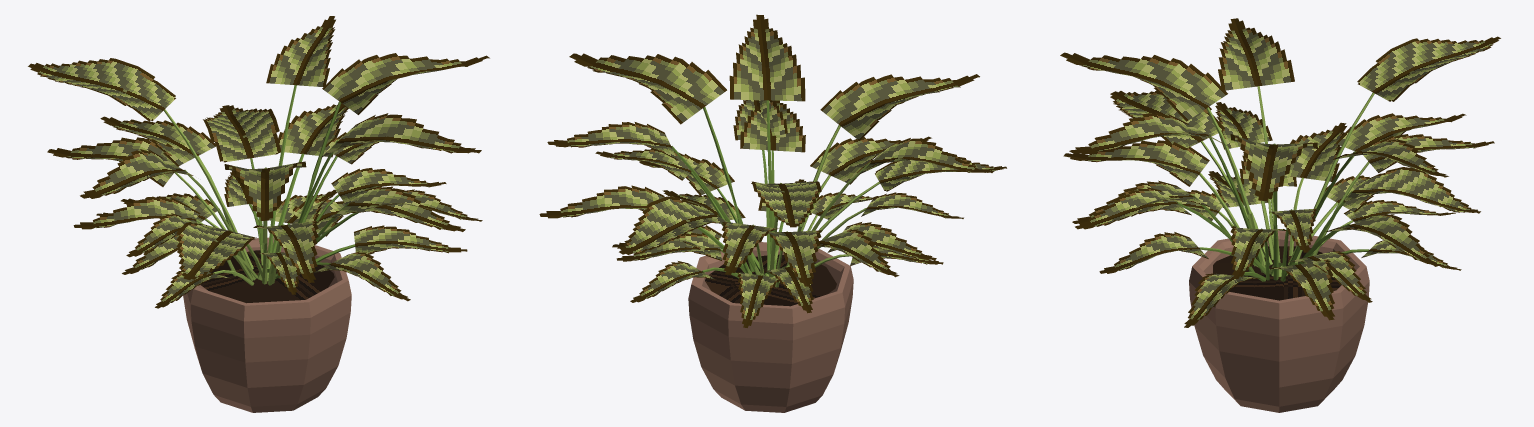
The model's file is calathea.gltf.
The picture shows the model from 3 angles, left to right: view 1: azimuth 30°, elevation 25°; view 2: azimuth 150°, elevation 25°; view 3: azimuth 270°, elevation 25°; orthographic projection. The views are drawn at different scales.
Parts seen in each view (by area): view 1: Pot, Leaf_018, Leaf_019, Leaf_000, Soil, Leaf_027, Leaf_001, Leaf_025, Leaf_007, Leaf_012, Leaf_006, Leaf_014 (+20 smaller); view 2: Pot, Leaf_019, Leaf_025, Leaf_023, Leaf_000, Soil, Leaf_018, Leaf_027, Leaf_016, Leaf_012, Leaf_006, Leaf_014 (+19 smaller); view 3: Pot, Leaf_023, Leaf_018, Leaf_014, Leaf_016, Leaf_000, Leaf_019, Leaf_025, Leaf_001, Soil, Leaf_024, Leaf_008 (+20 smaller).
Boxes of the visible parts, box(x1,y1,x2,y2) form: Pot: box(183, 237, 351, 412); Leaf_018: box(28, 58, 175, 121); Leaf_019: box(322, 53, 489, 114); Leaf_000: box(203, 105, 280, 162); Soil: box(200, 250, 334, 303); Leaf_027: box(266, 16, 335, 86); Leaf_001: box(176, 222, 256, 279); Leaf_025: box(321, 113, 481, 157); Leaf_007: box(100, 116, 217, 166); Leaf_012: box(332, 185, 465, 231); Leaf_006: box(278, 103, 348, 157); Leaf_014: box(80, 149, 193, 198); Pot: box(688, 242, 853, 412); Leaf_019: box(569, 53, 726, 124); Leaf_025: box(729, 14, 805, 101); Leaf_023: box(820, 74, 979, 140); Leaf_000: box(619, 196, 727, 254); Soil: box(705, 254, 836, 306); Leaf_018: box(751, 181, 821, 227); Leaf_027: box(547, 122, 677, 160); Leaf_016: box(810, 136, 931, 184); Leaf_012: box(740, 100, 805, 152); Leaf_006: box(539, 185, 664, 218); Leaf_014: box(859, 138, 993, 174); Pot: box(1189, 230, 1369, 412); Leaf_023: box(1060, 52, 1227, 121); Leaf_018: box(1357, 36, 1500, 101); Leaf_014: box(1218, 18, 1294, 90); Leaf_016: box(1063, 140, 1209, 186); Leaf_000: box(1343, 167, 1480, 213); Leaf_019: box(1230, 134, 1317, 201); Leaf_025: box(1069, 112, 1228, 154); Leaf_001: box(1110, 90, 1224, 147); Soil: box(1213, 246, 1341, 300); Leaf_024: box(1284, 122, 1346, 181); Leaf_008: box(1335, 113, 1466, 151).
Bounding box in the file's own units: 4.08 × 2.8 × 3.85.
Materials: 4 (4 with a texture image).
